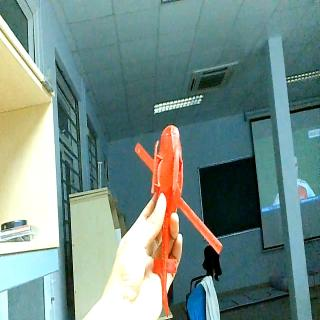Helicopter: (135, 124, 224, 318)
